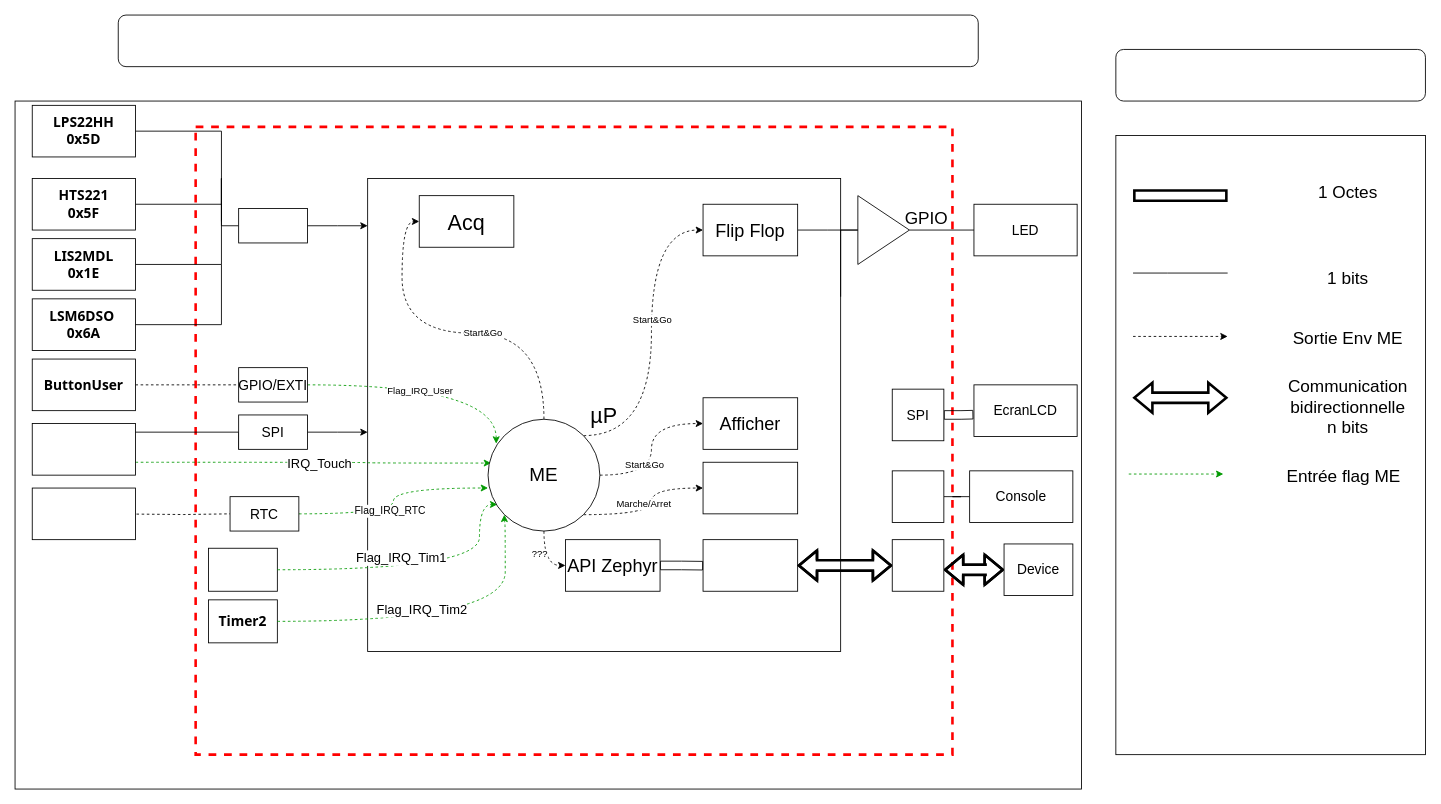
The diagram is 1441 pixels wide and 804 high, and some of its shapes have lost their labels. Here are the shapes that lost their labels. From the top down, the centre of each, then its label:
(547,40): Diagramme de flot des évenements
(1270,75): Legendes
(272,225): I2C
(83,449): EcranUser
(750,487): Ecrire
(917,496): Usart
(83,513): RV-8263-C8
(242,569): Timer1
(750,565): BLE
(917,565): RF
